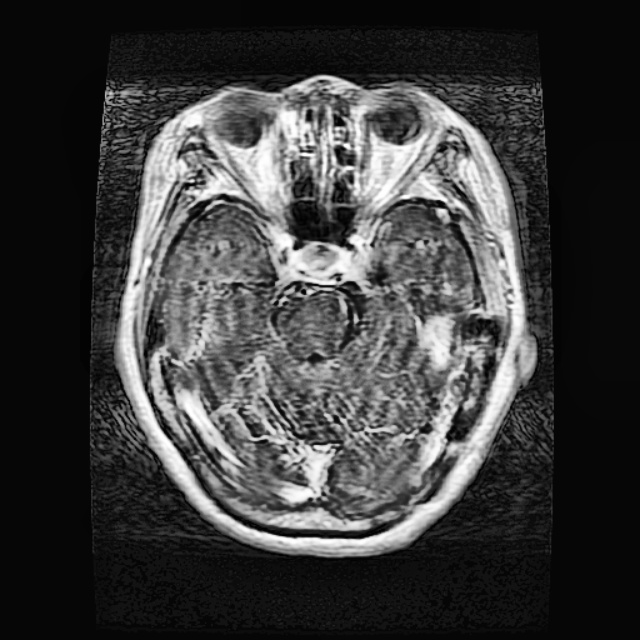Glioma: (412, 302, 465, 373)
